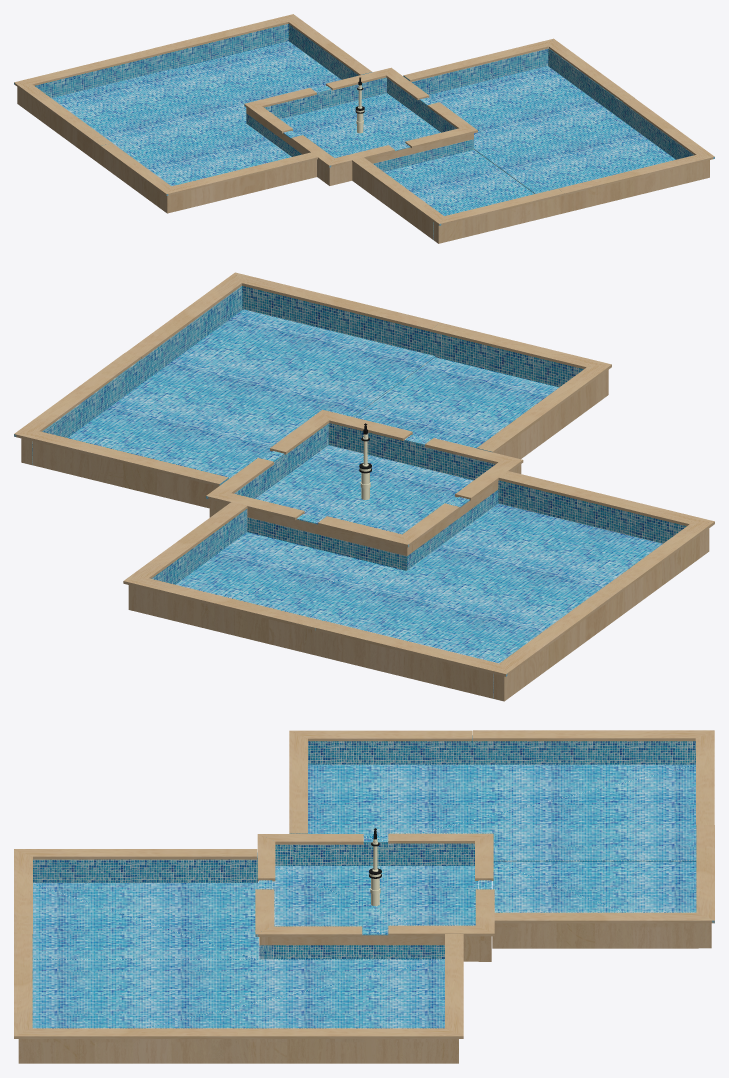
Rendered from HOZ.fbx.
3 views of the same model, one above another, from view 1: azimuth 30°, elevation 25°; view 2: azimuth 150°, elevation 25°; view 3: azimuth 270°, elevation 25° (orthographic). The views are drawn at different scales.
Visible parts, largest first — view 1: Cube; view 2: Cube; view 3: Cube.
Part boxes in pixels (x1,y1,x2,y2): Cube: (14, 14, 714, 243); Cube: (14, 272, 714, 701); Cube: (14, 730, 714, 1063).
Bounding box in the file's own units: 1423 × 1468 × 191.
